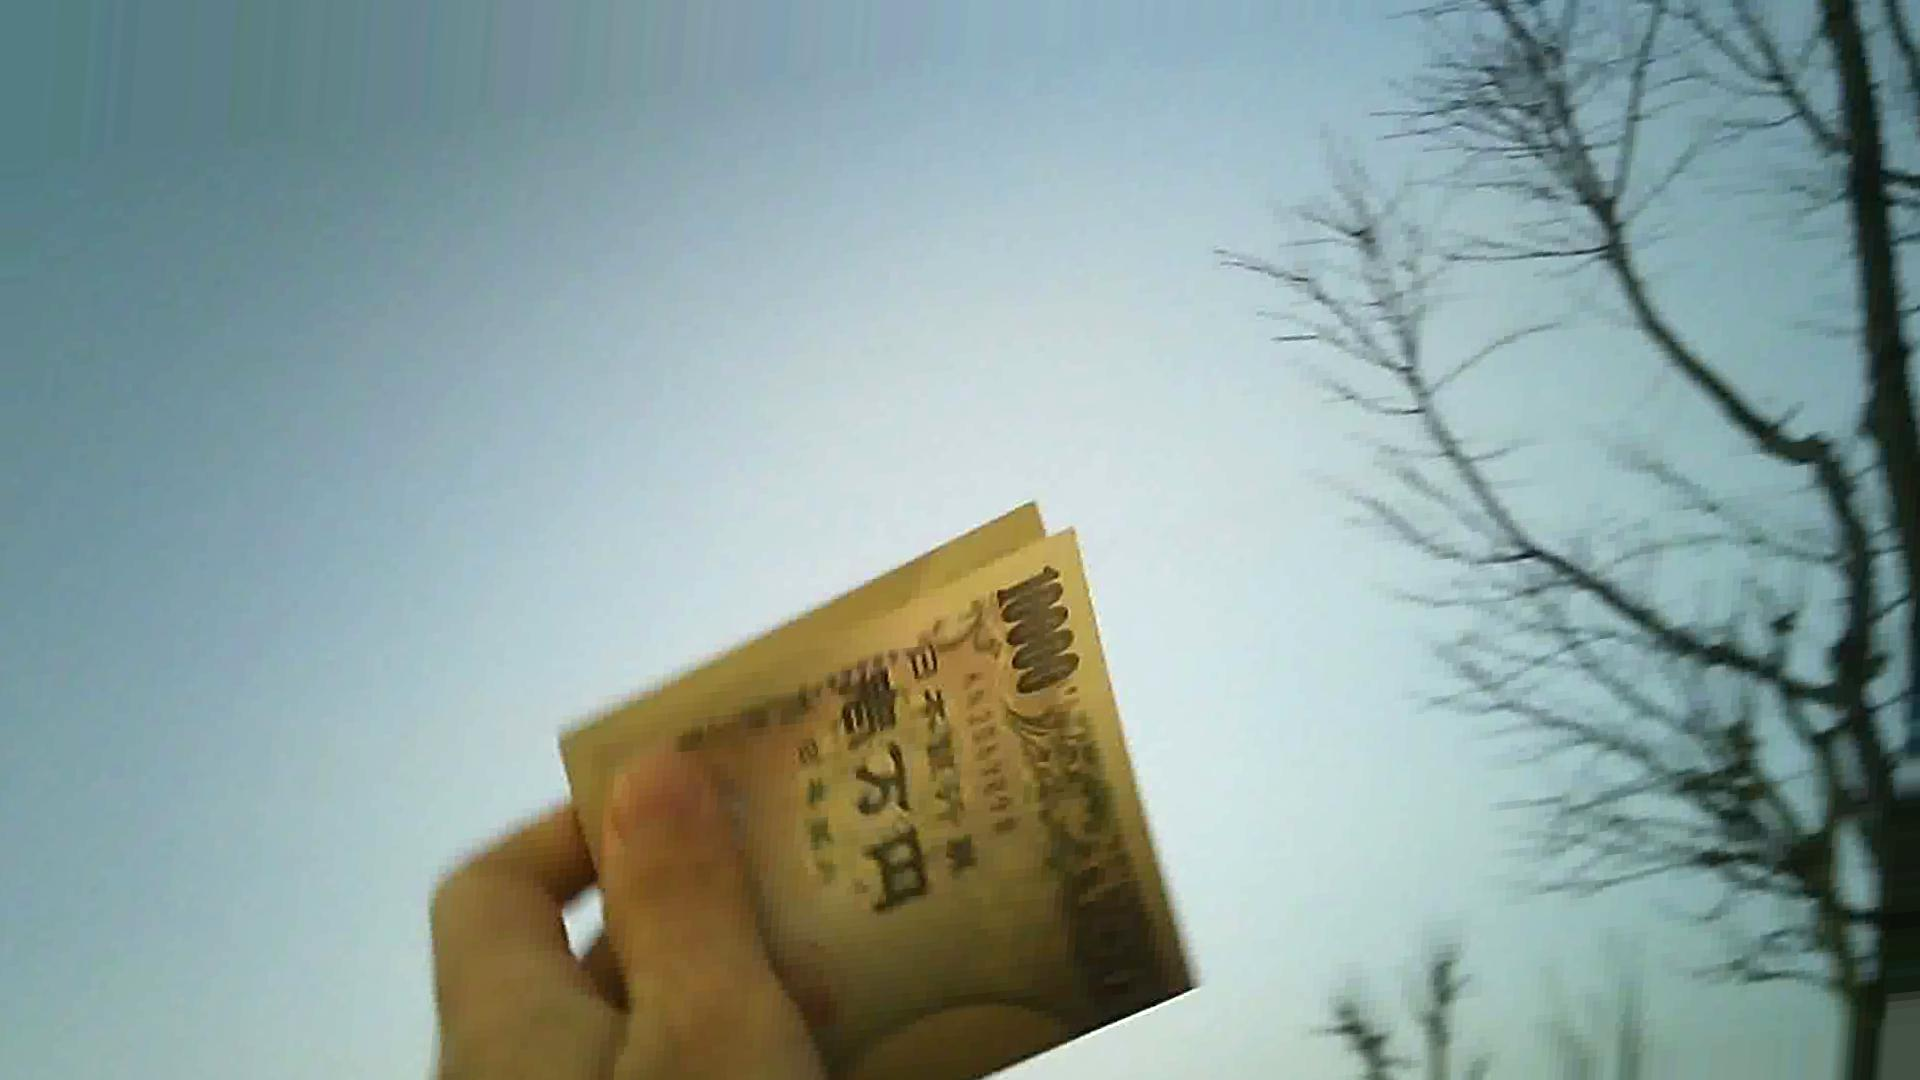10,000 Yen: (534, 512, 1174, 1079)
